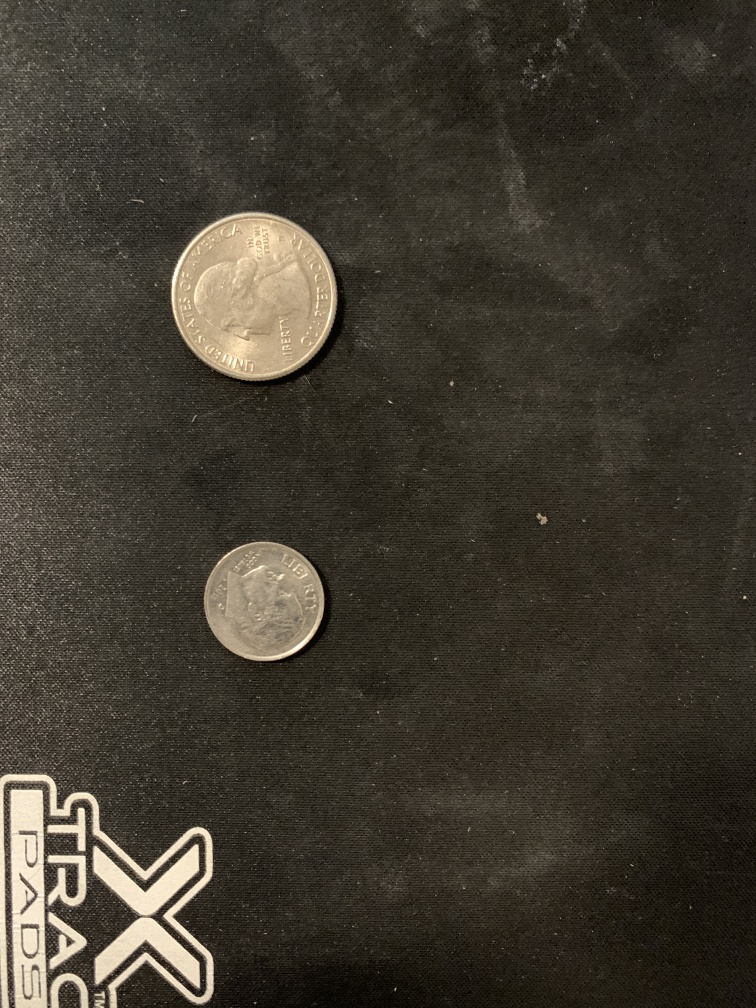dime: (201, 532, 331, 667)
quarter: (167, 206, 346, 388)
